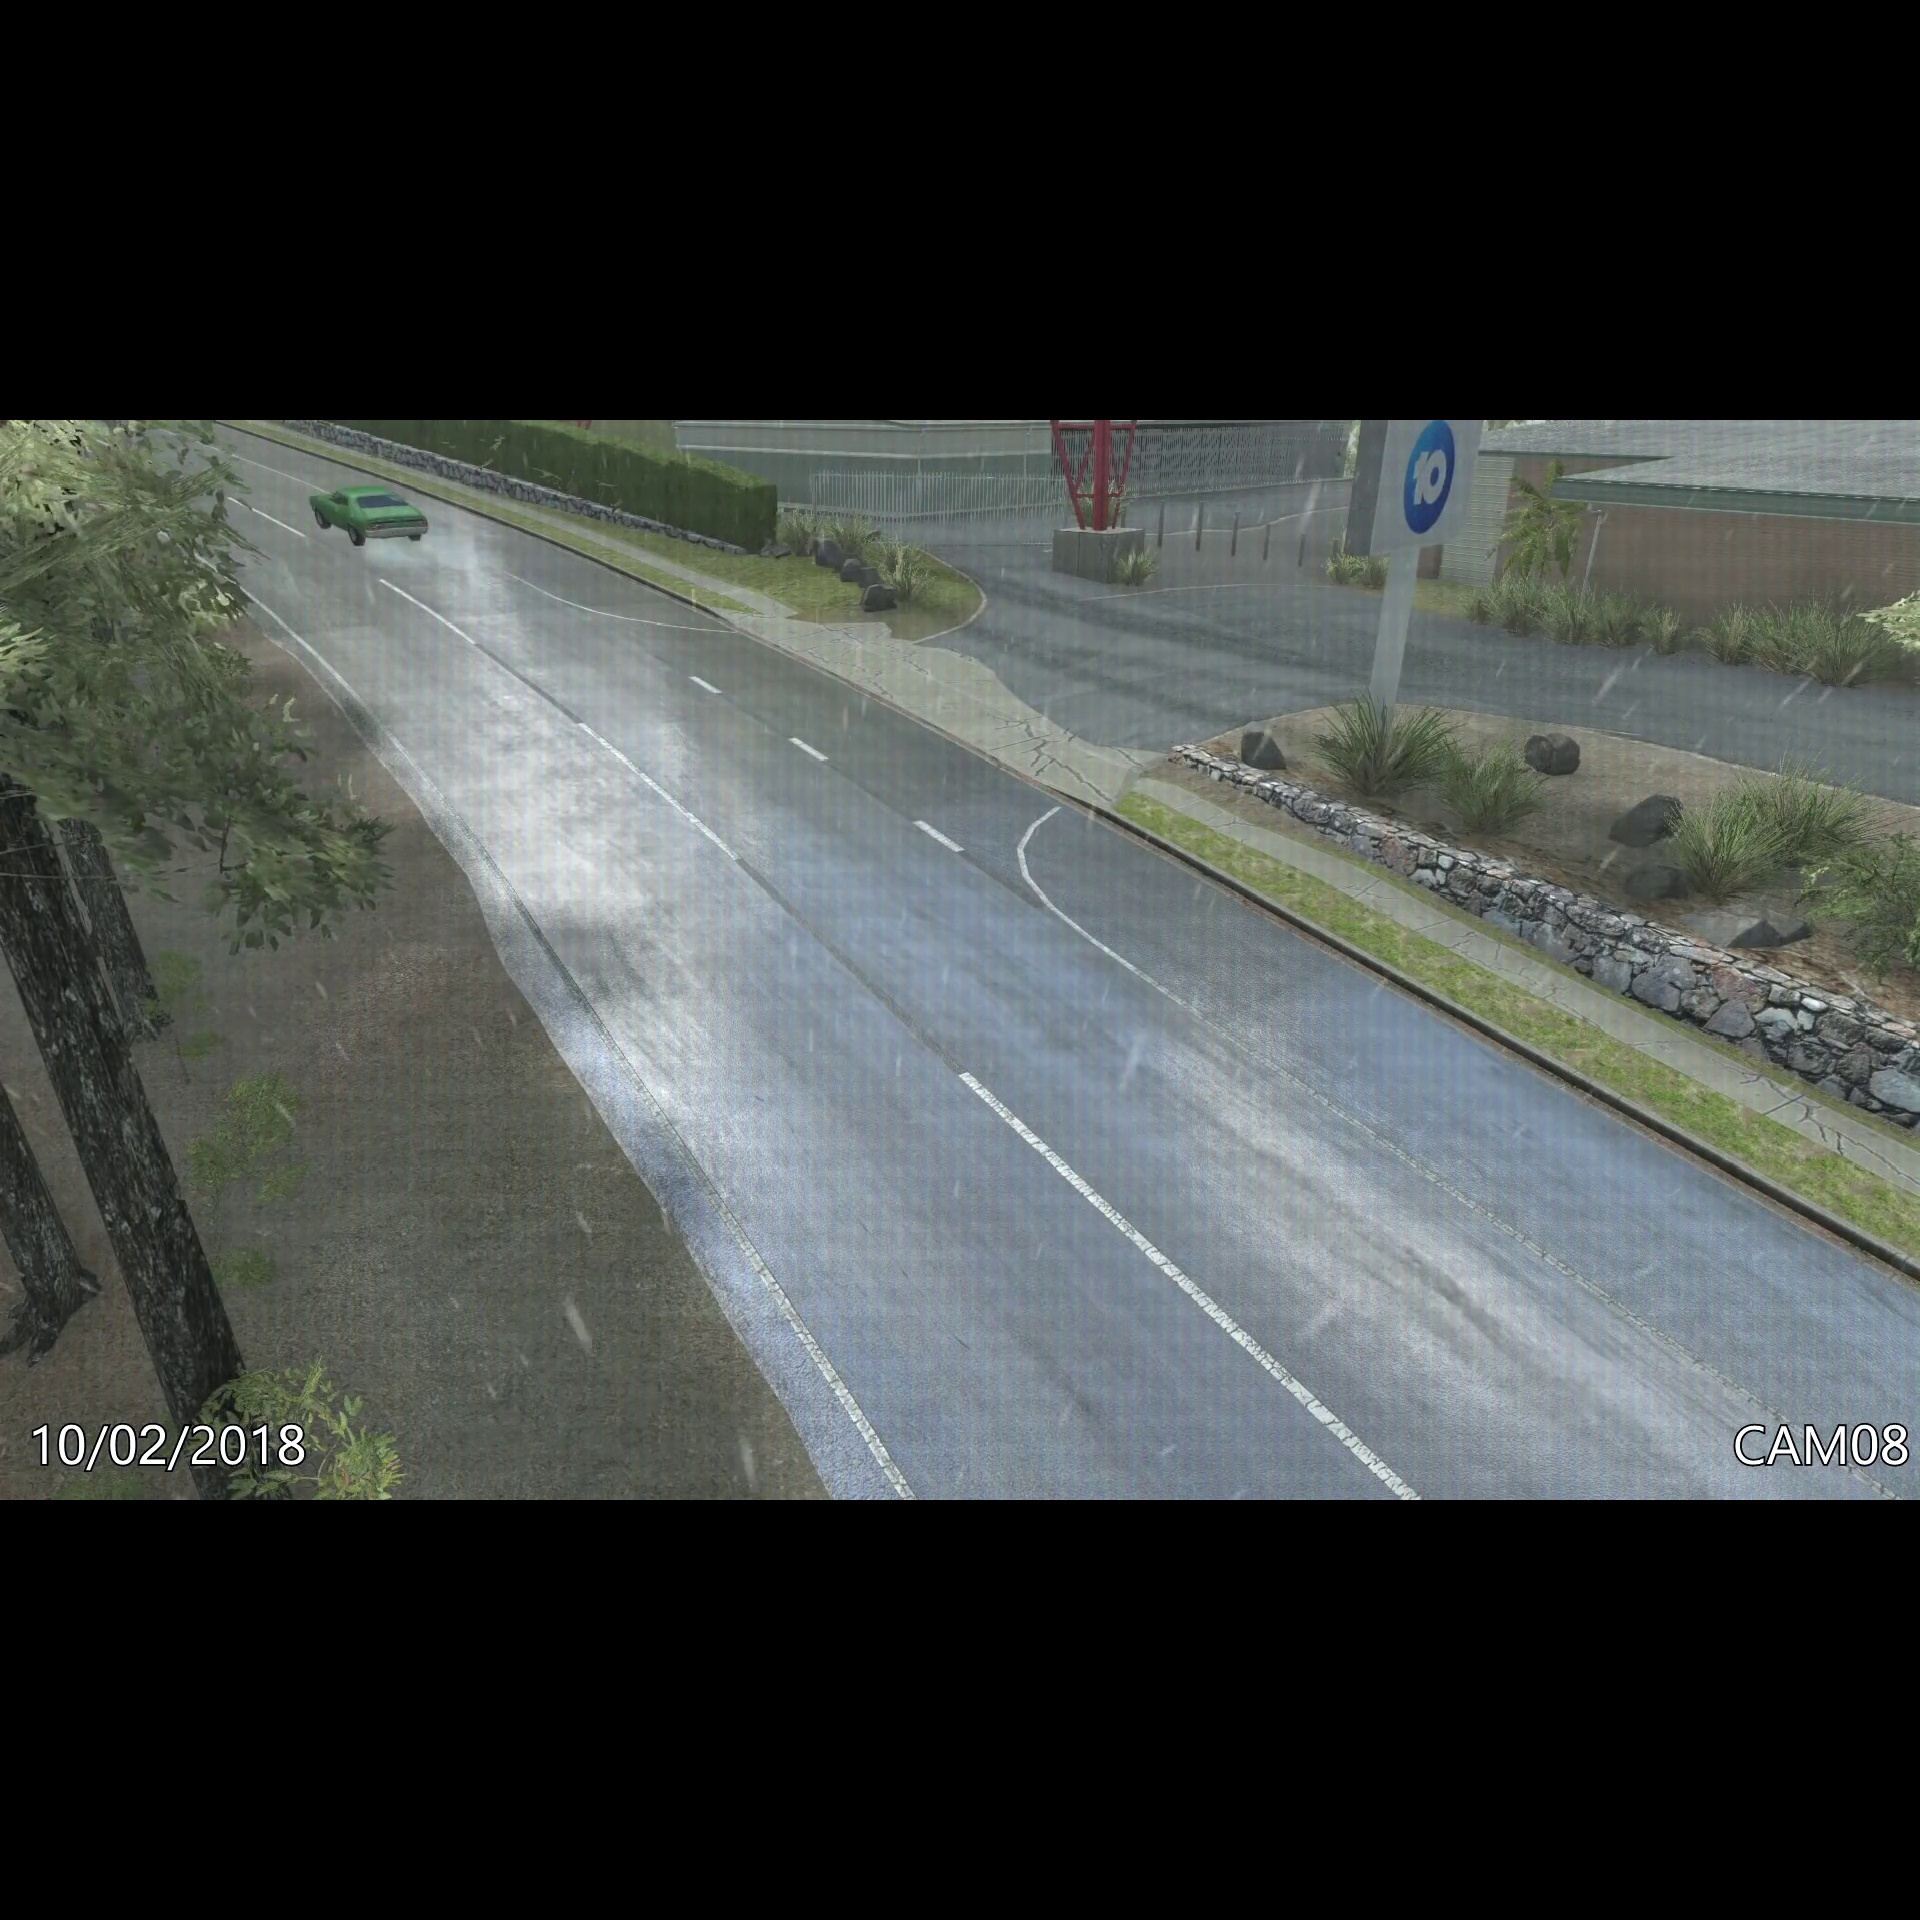vehicle: (302, 478, 440, 550)
